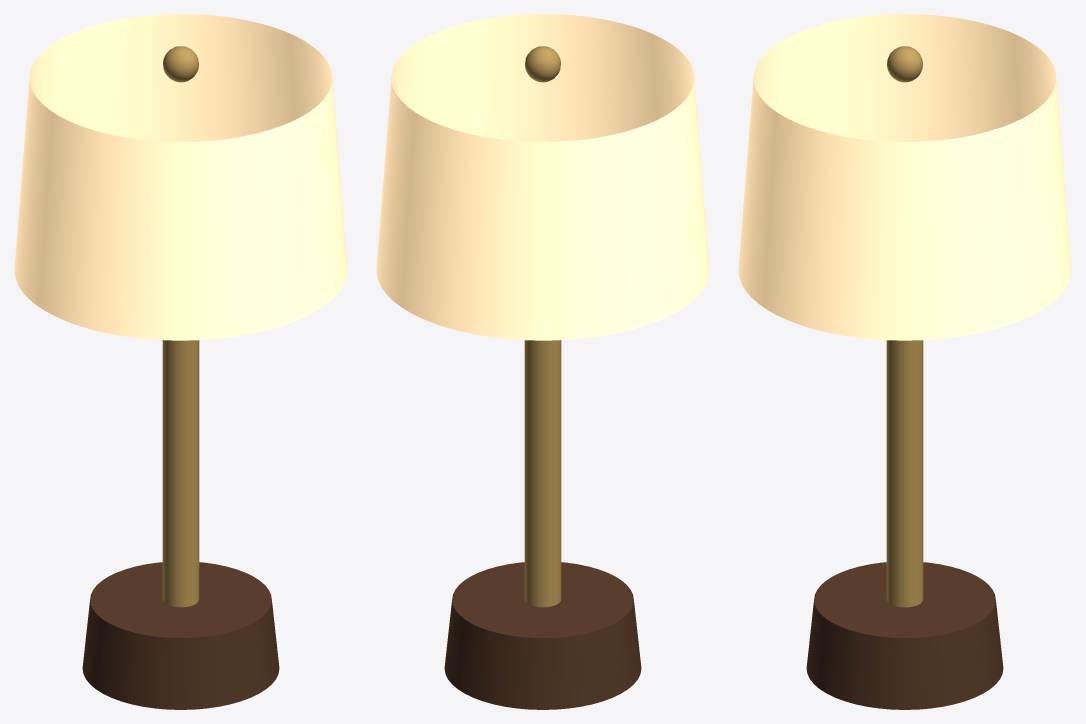
File: column.glb
3 views of the same model, side by side, from view 1: azimuth 30°, elevation 25°; view 2: azimuth 150°, elevation 25°; view 3: azimuth 270°, elevation 25° (orthographic).
Parts seen in each view (by area): view 1: Drum shade, Base, Stem, Finial; view 2: Drum shade, Base, Stem, Finial; view 3: Drum shade, Base, Stem, Finial.
Boxes of the visible parts, x1=… form: Drum shade: x1=14, y1=14, x2=347, y2=340; Base: x1=82, y1=562, x2=279, y2=709; Stem: x1=162, y1=340, x2=199, y2=607; Finial: x1=163, y1=46, x2=198, y2=82; Drum shade: x1=376, y1=14, x2=709, y2=340; Base: x1=444, y1=562, x2=641, y2=709; Stem: x1=524, y1=340, x2=561, y2=607; Finial: x1=525, y1=46, x2=560, y2=82; Drum shade: x1=738, y1=14, x2=1071, y2=340; Base: x1=806, y1=562, x2=1003, y2=709; Stem: x1=886, y1=340, x2=923, y2=607; Finial: x1=887, y1=46, x2=922, y2=82.
Size of the model in its own units: 0.22 by 0.452 by 0.22.
